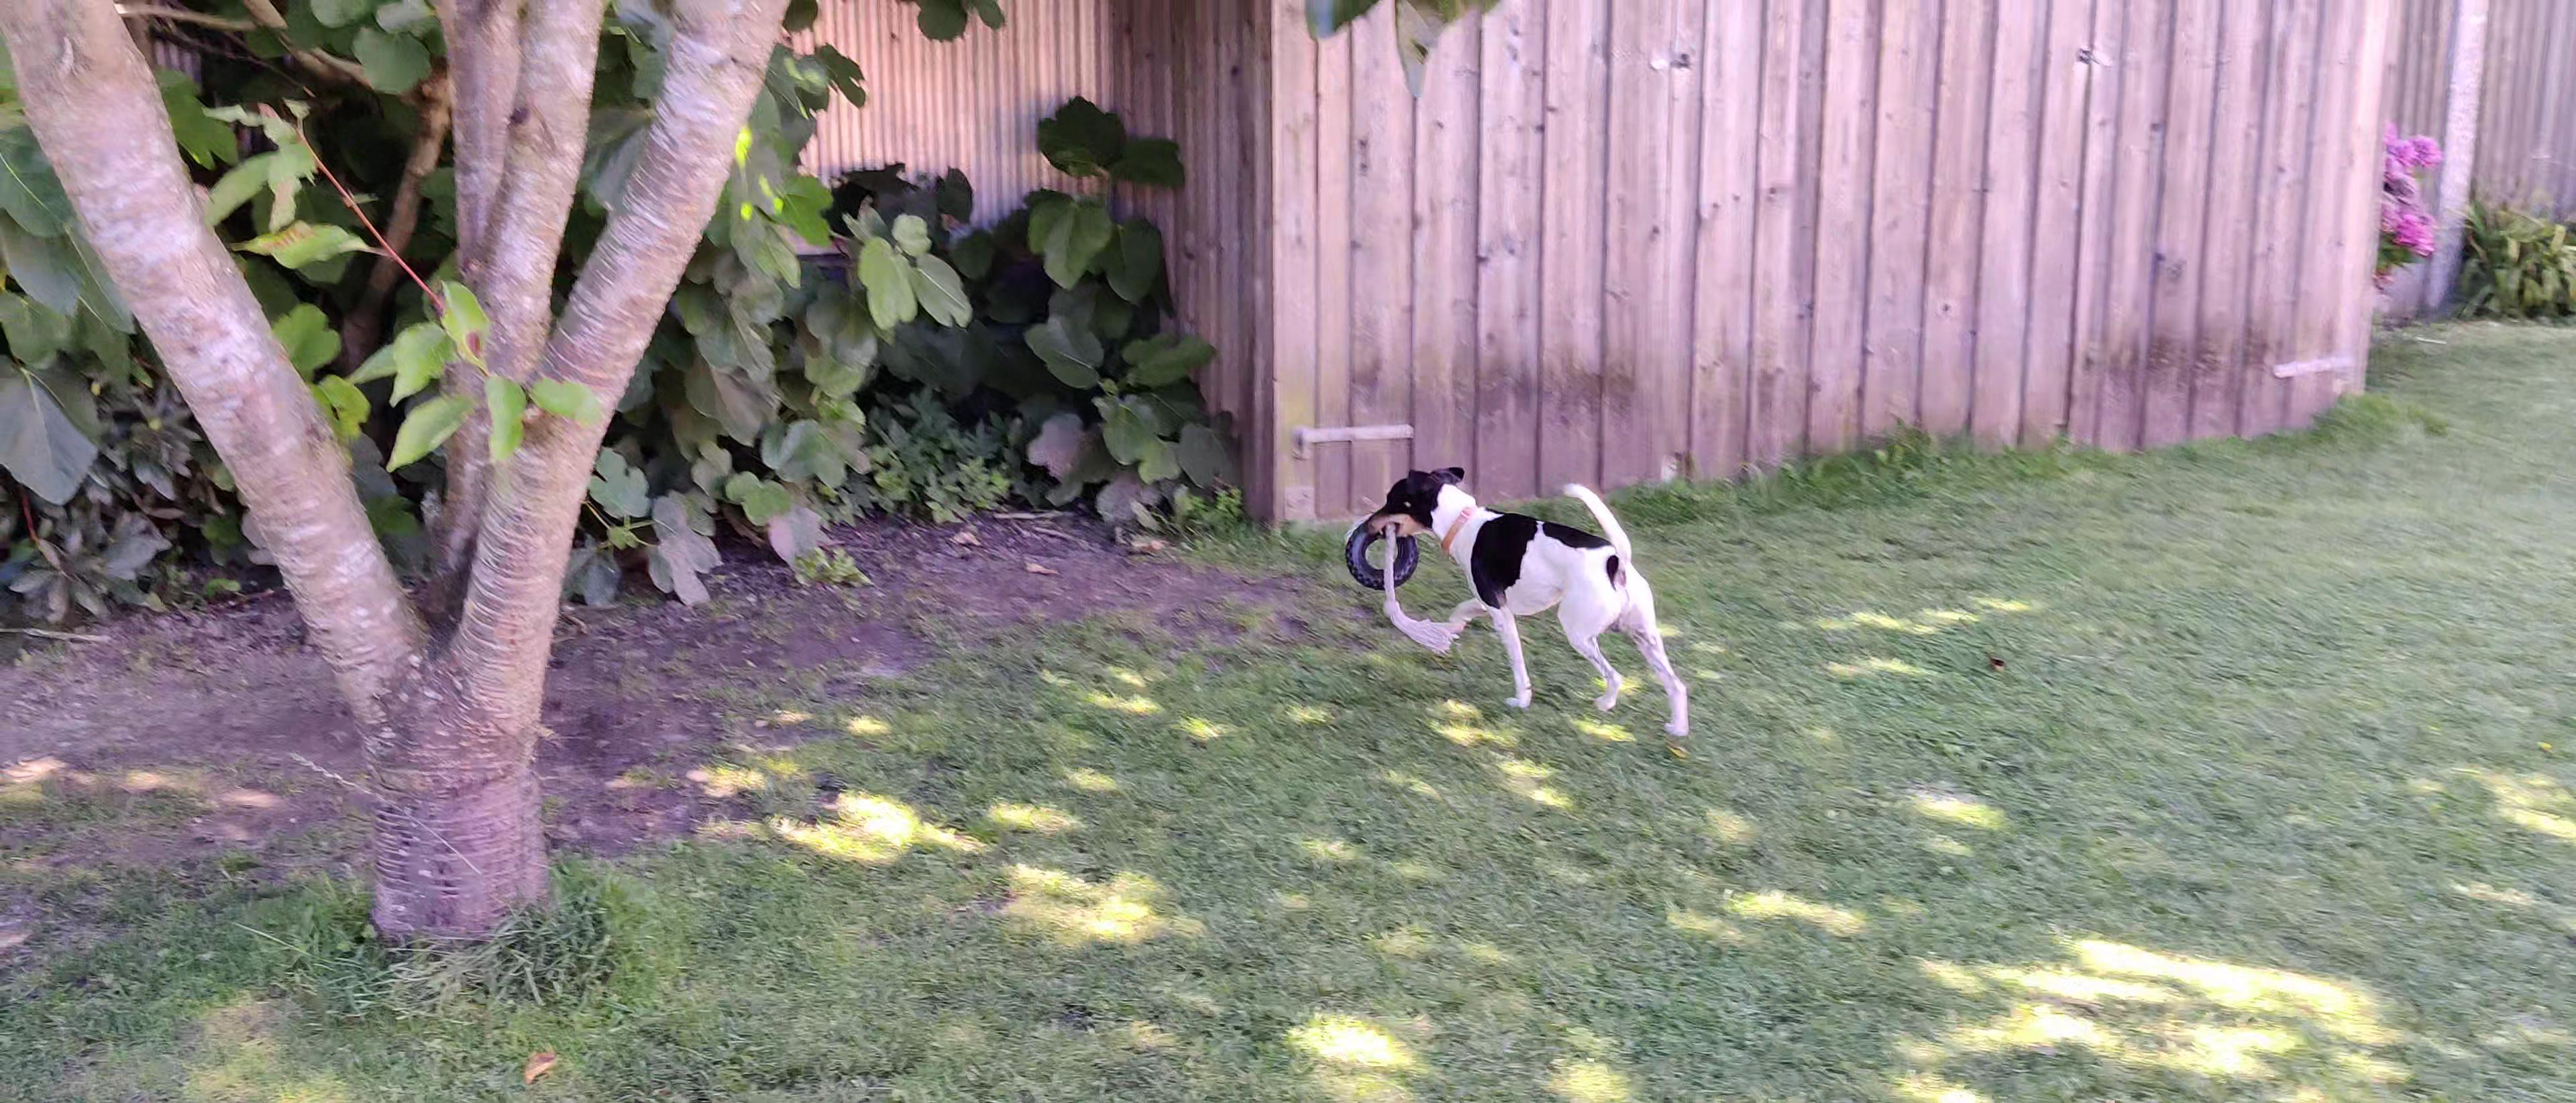Dog: (1362, 462, 1694, 738)
